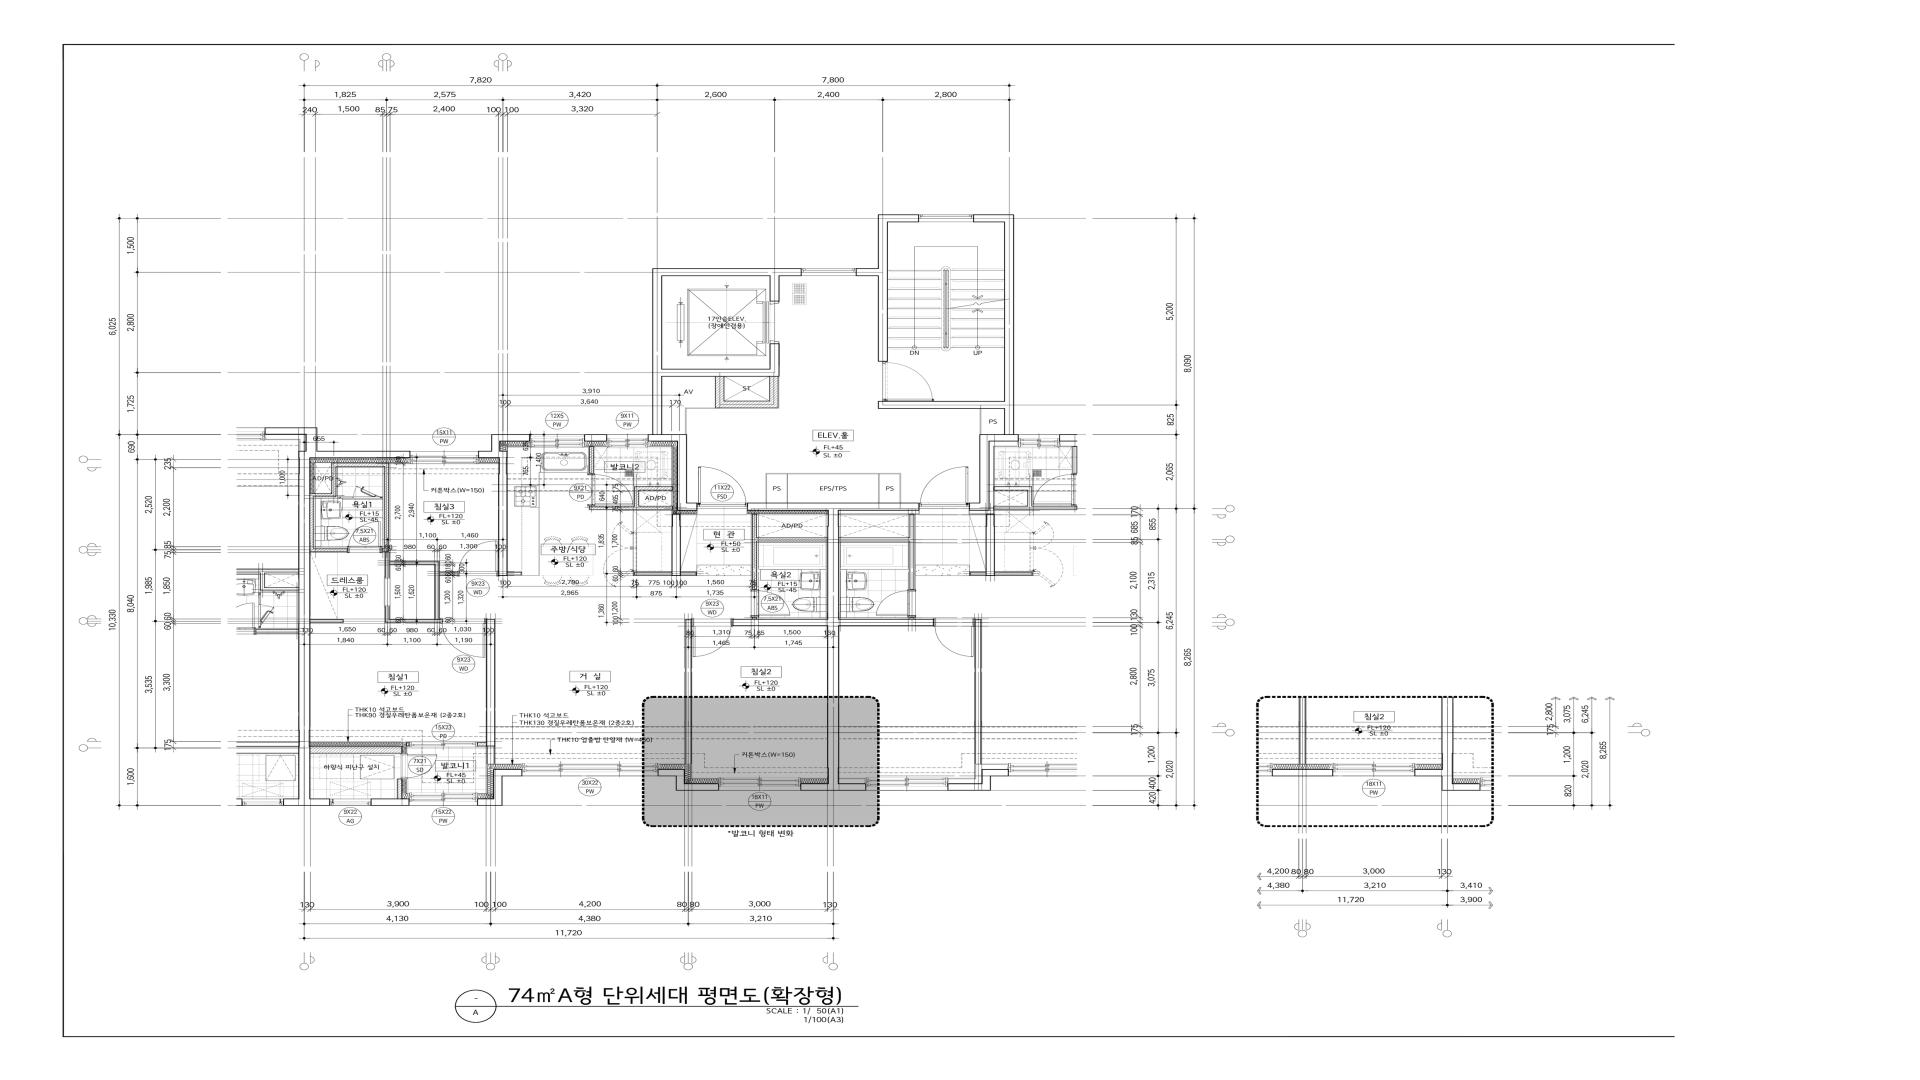door: (882, 363, 934, 400), (698, 467, 746, 505), (442, 621, 485, 658), (692, 622, 732, 658), (459, 539, 497, 574), (592, 475, 633, 505), (348, 521, 380, 550), (754, 591, 790, 616), (405, 754, 438, 778), (352, 485, 382, 498)
wall: (746, 502, 919, 791), (298, 427, 410, 806), (877, 214, 1014, 434), (651, 268, 802, 434), (856, 214, 919, 363), (479, 434, 530, 576), (647, 434, 698, 510), (969, 434, 1018, 510), (477, 769, 522, 806), (485, 618, 496, 746), (658, 769, 719, 790), (684, 618, 692, 764), (733, 618, 827, 626), (381, 467, 389, 551), (310, 746, 402, 753), (671, 514, 680, 576), (724, 401, 779, 409), (752, 514, 757, 589), (434, 566, 440, 618), (715, 376, 724, 409), (757, 538, 828, 542), (390, 560, 440, 566), (371, 799, 409, 806), (769, 377, 779, 401), (589, 505, 634, 510), (336, 463, 389, 467), (390, 618, 442, 622), (633, 571, 671, 576), (310, 497, 314, 547), (588, 446, 595, 473), (331, 463, 336, 497), (310, 618, 344, 624), (765, 473, 901, 475), (584, 434, 607, 442), (487, 746, 496, 764), (634, 506, 673, 510), (310, 547, 348, 551), (634, 487, 673, 491), (385, 551, 390, 578), (397, 778, 402, 799), (384, 607, 390, 622), (440, 571, 458, 576), (680, 571, 696, 576), (634, 491, 640, 506), (310, 493, 331, 497), (508, 571, 522, 576), (899, 475, 902, 502), (765, 475, 767, 502), (786, 475, 789, 502), (684, 409, 687, 434), (684, 407, 715, 409), (878, 475, 880, 502), (980, 409, 981, 434), (479, 742, 487, 746), (336, 497, 352, 498), (406, 742, 410, 746)
window: (522, 764, 658, 777), (719, 778, 800, 790), (409, 741, 479, 754), (410, 451, 479, 464), (409, 793, 477, 806), (530, 434, 584, 447), (607, 434, 649, 447), (800, 269, 857, 276), (919, 215, 973, 222), (330, 799, 371, 806)
